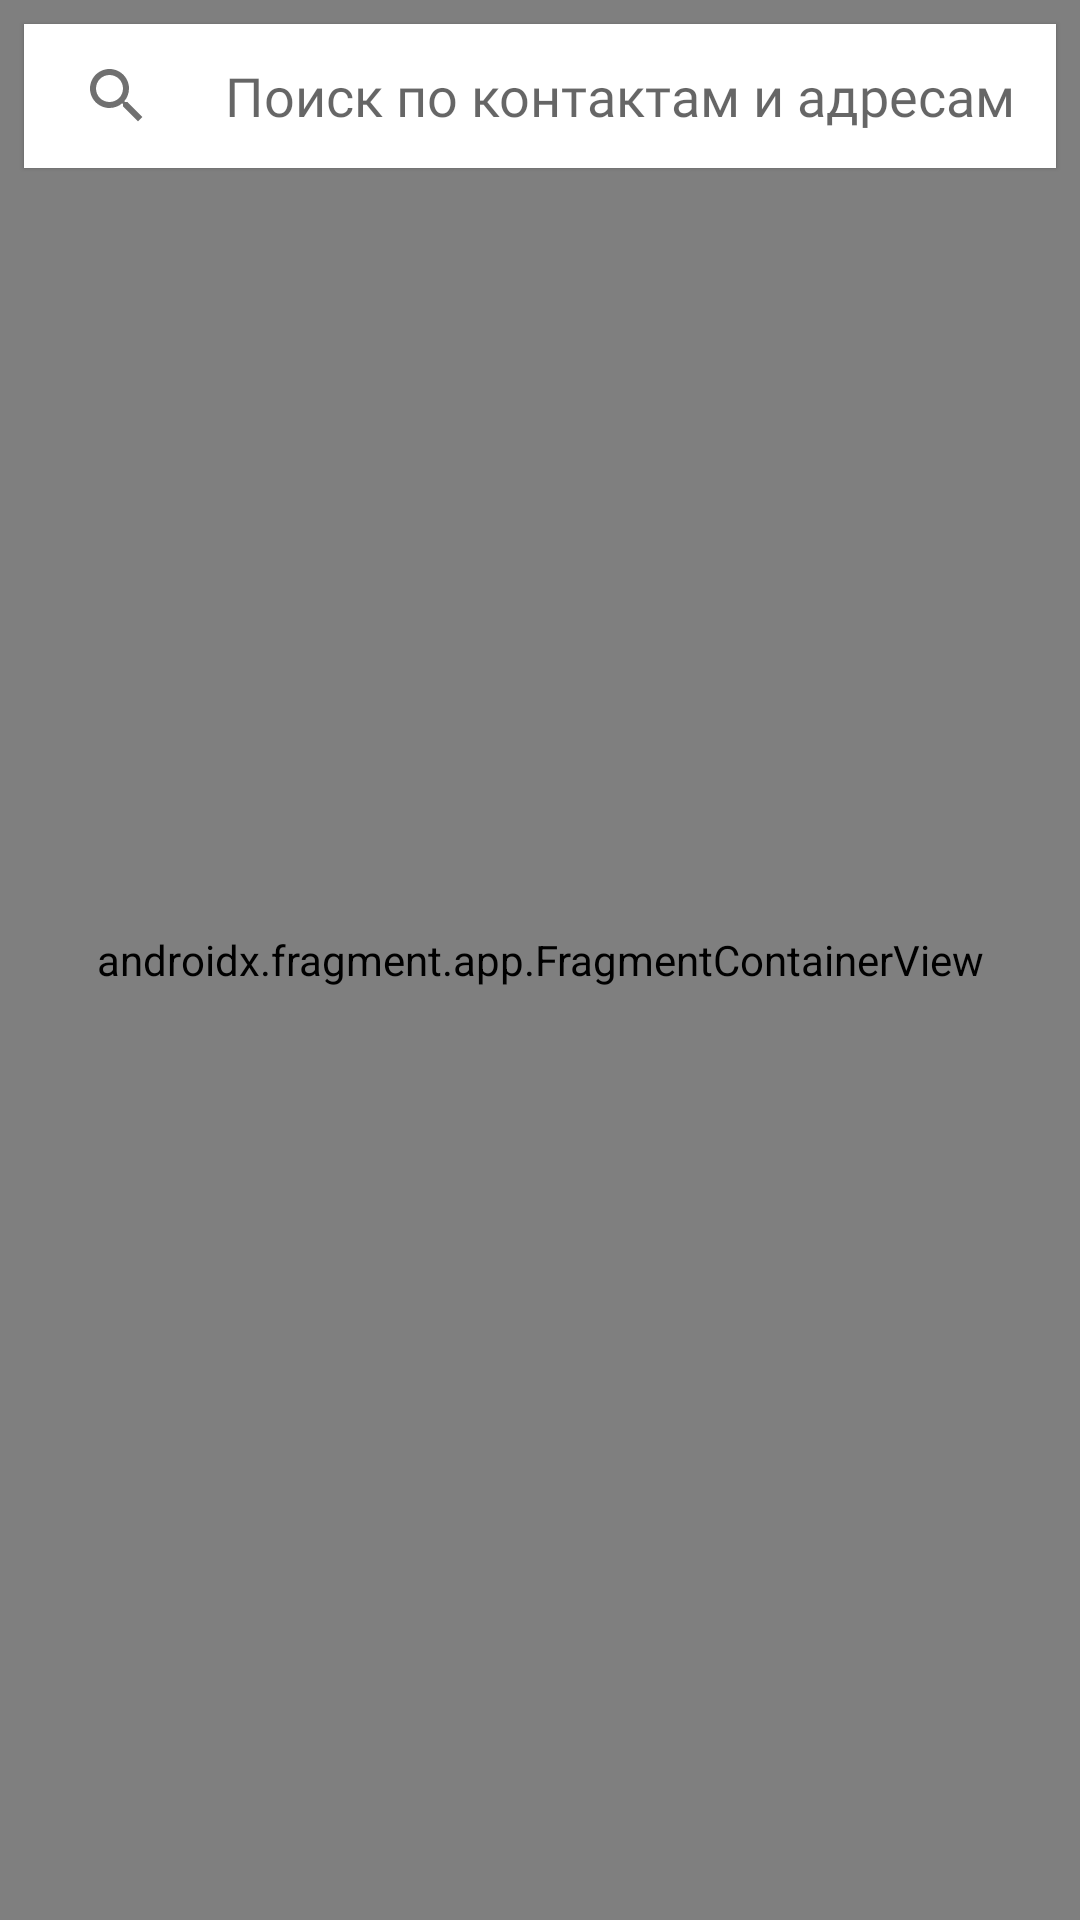

Where to tap for icons on this 1080w x 1920h app screen, as [x,y]:
search: [116,95]
